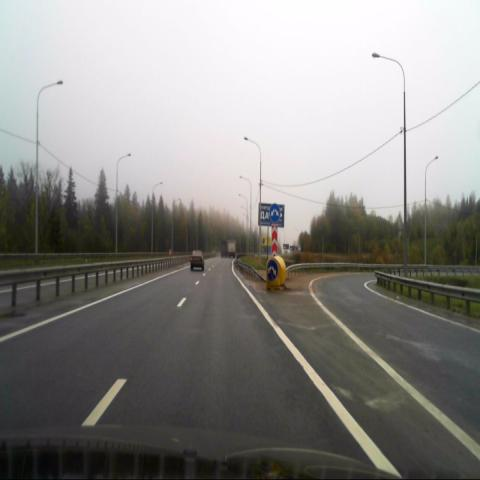4_2_3: (266, 260, 278, 280), (270, 203, 280, 222)
